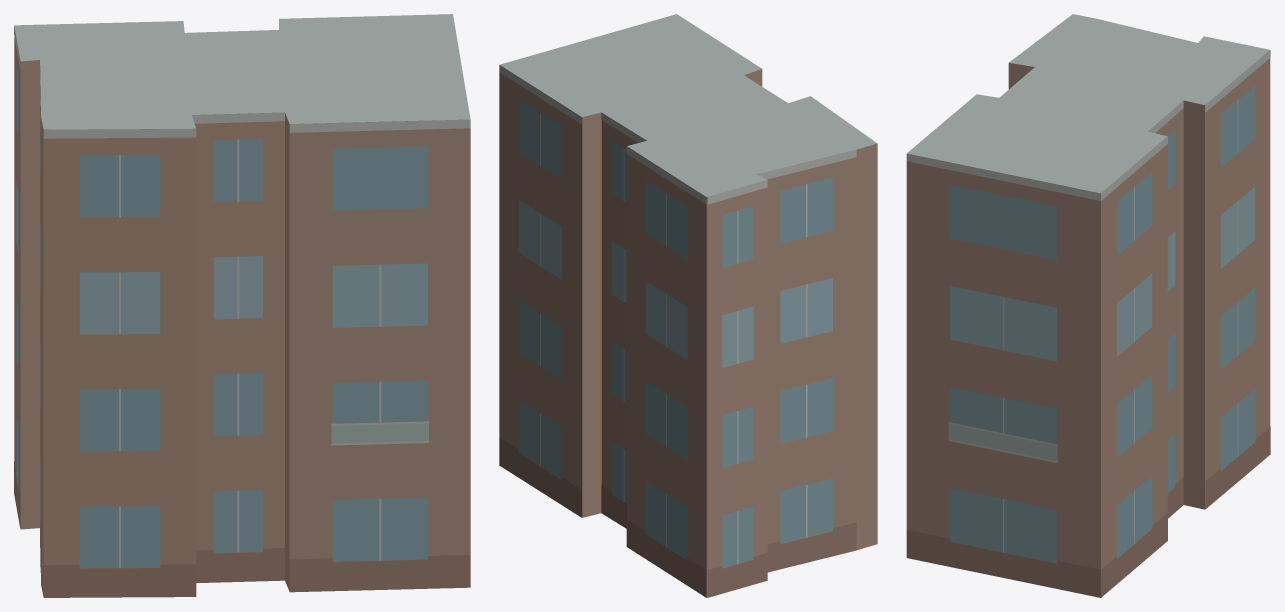
File: survey-upis-32753294.glb
3 renders of one model, left to right at view 1: azimuth 30°, elevation 25°; view 2: azimuth 150°, elevation 25°; view 3: azimuth 270°, elevation 25°, orthographic. The views are drawn at different scales.
Parts seen in each view (by area): view 1: survey-upis-32753294.tmp; view 2: survey-upis-32753294.tmp; view 3: survey-upis-32753294.tmp.
Boxes of the visible parts, left/top/right/bottom form: survey-upis-32753294.tmp: left=14, top=14, right=470, bottom=597; survey-upis-32753294.tmp: left=499, top=14, right=877, bottom=597; survey-upis-32753294.tmp: left=906, top=14, right=1270, bottom=597.
Bounding box in the file's own units: 12.3 × 12.92 × 10.54.
